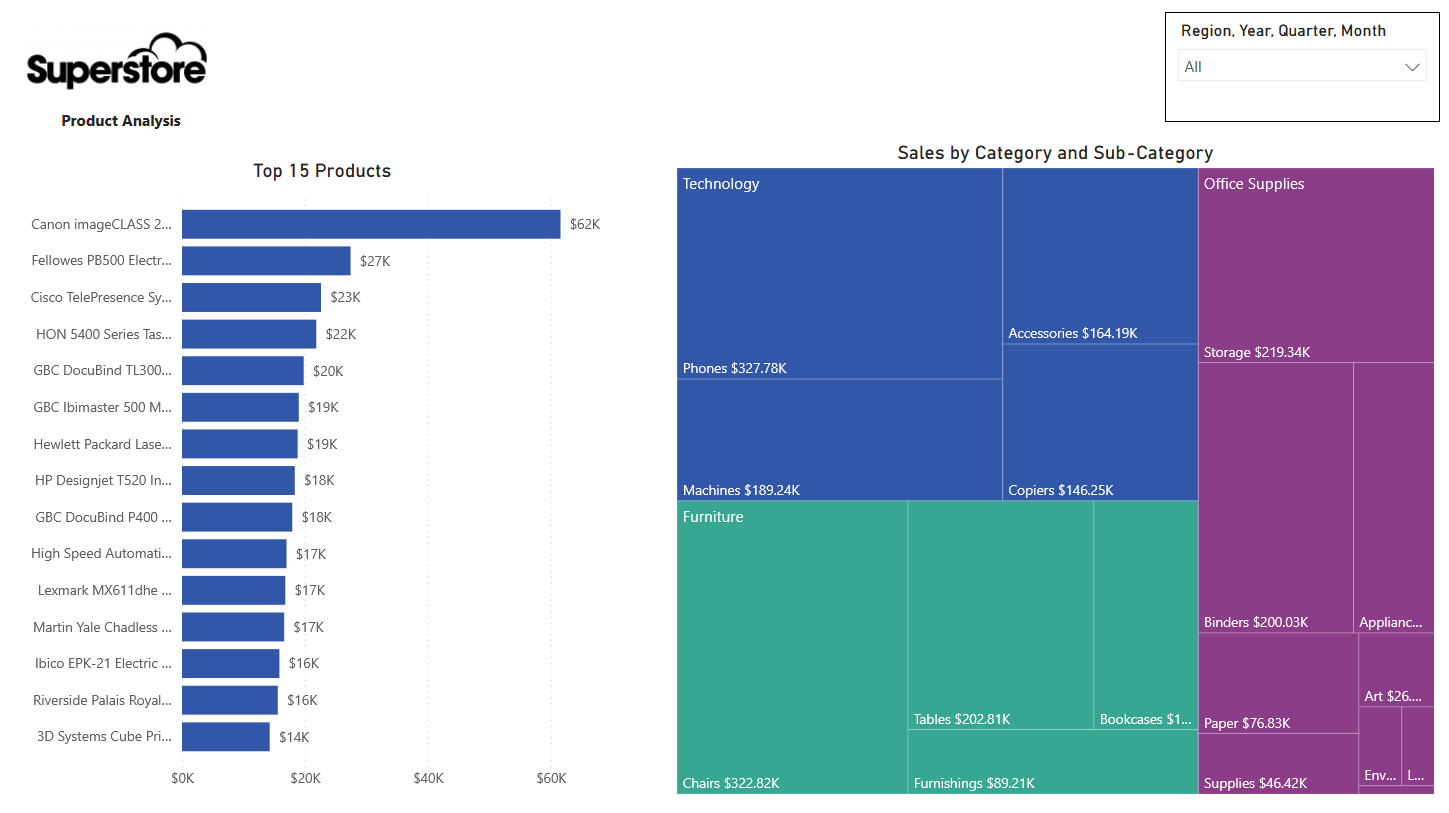

Layout of this report page (visuals, bound fields, positions):
{"tool":"powerbi","page":{"name":"Product Analysis","canvas":[1280,720],"ordinal":3},"visuals":[{"type":"image","box":[24,16,168,88],"z":0},{"type":"barChart","title":"Top 15 Products","fields":{"Category":["Super Store Dataset.Product Name"],"Y":["Sum(Super Store Dataset.Sales)"]},"box":[16,144,544,560],"z":1000},{"type":"treemap","title":"Sales by Category and Sub-Category","fields":{"Group":["Super Store Dataset.Category"],"Values":["Sum(Super Store Dataset.Sales)"],"Details":["Super Store Dataset.Sub-Category"]},"box":[592,128,672,576],"z":2000},{"type":"slicer","title":"Filter by","fields":{"Values":["Super Store Dataset.Region","Super Store Dataset.Order Date Hierarchy.Year","Super Store Dataset.Order Date Hierarchy.Quarter","Super Store Dataset.Order Date Hierarchy.Month"]},"box":[1024,16,240,96],"z":3000},{"type":"textbox","box":[16,96,192,32],"z":4000}]}

Visuals, with their boxes in screenshot pixels (x1, y1, x2, y2), scaled from the page's 1280x720 canvas onto the 1449x813 screenshot:
image: x1=27 y1=18 x2=217 y2=117
"Top 15 Products" barChart: x1=18 y1=163 x2=634 y2=795
"Sales by Category and Sub-Category" treemap: x1=670 y1=145 x2=1431 y2=795
"Filter by" slicer: x1=1159 y1=18 x2=1431 y2=126
textbox: x1=18 y1=108 x2=235 y2=145
